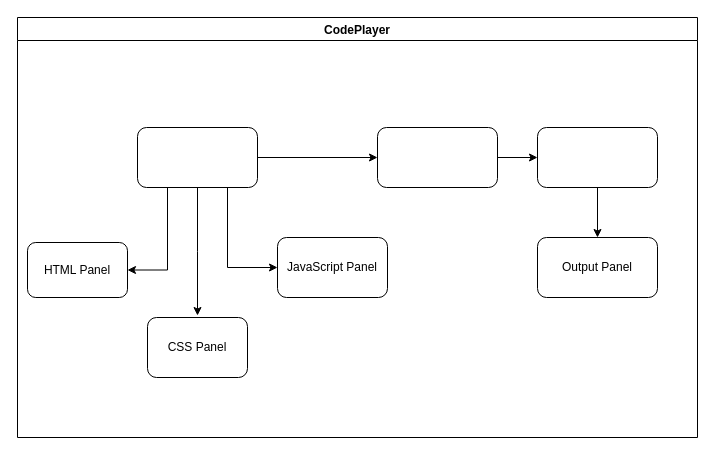
This 715x455 diagram has some shape labels left out. The centre of each missing label's shape, as x and y in pixels:
"Input Window" belongs at pixel 197 157.
"Output Window" belongs at pixel 597 157.
"UpdateOutput()" belongs at pixel 437 157.
